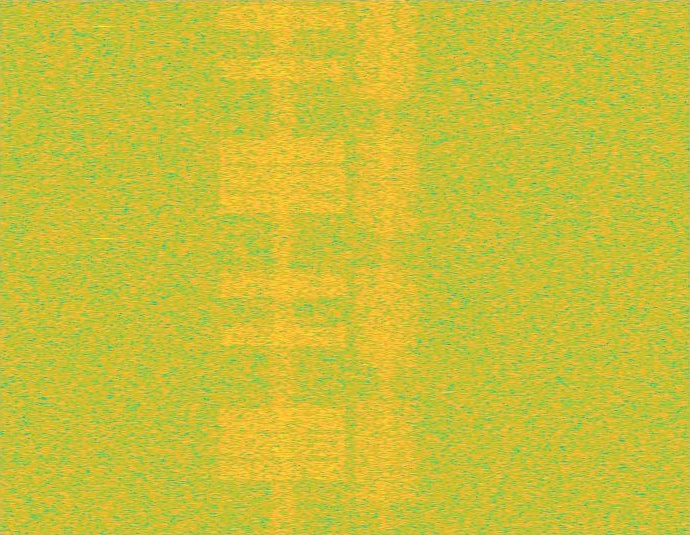5G: (352, 0, 421, 534)
DSSS: (267, 0, 298, 534), (379, 0, 394, 534)
LTE: (214, 0, 352, 534)
Radar: (96, 0, 110, 534)
